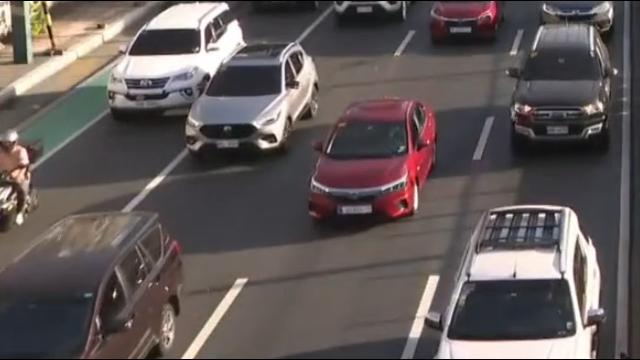car: (424, 206, 607, 360), (0, 210, 187, 360), (310, 98, 438, 229), (184, 41, 317, 161), (107, 6, 244, 117), (503, 24, 614, 153), (426, 0, 506, 48), (328, 0, 416, 25)
motorcycle: (0, 129, 47, 231)
